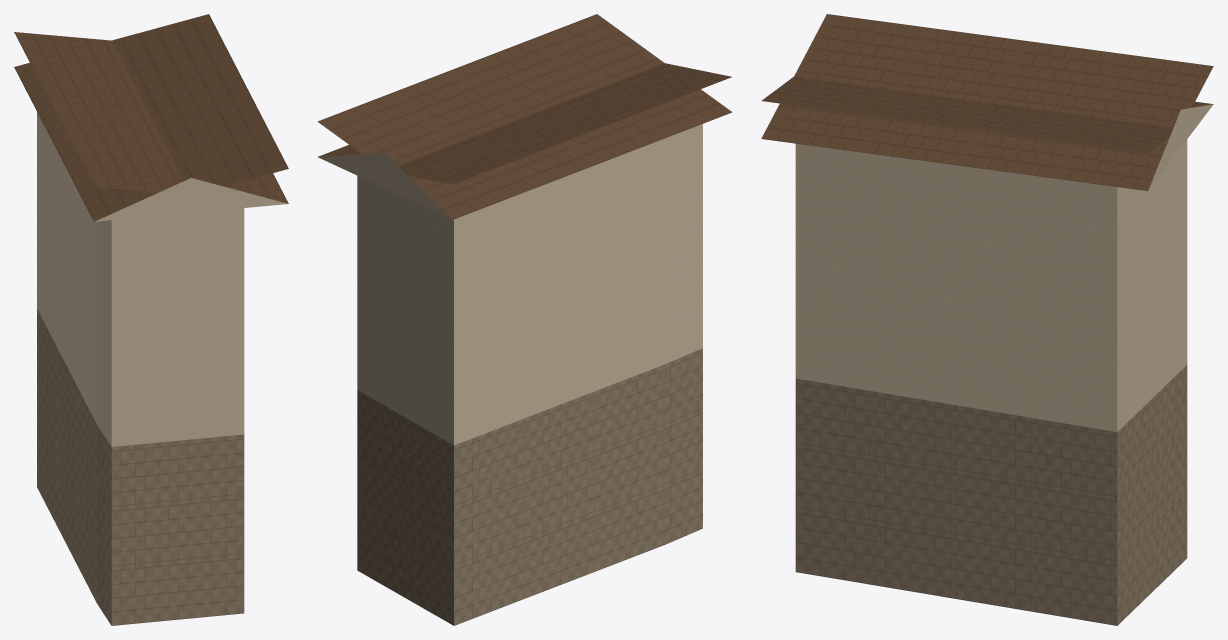
File: bld_c43_32_267.gltf
The picture shows the model from 3 angles, left to right: view 1: azimuth 30°, elevation 25°; view 2: azimuth 150°, elevation 25°; view 3: azimuth 270°, elevation 25°; orthographic projection. The views are drawn at different scales.
Visible parts, largest first — view 1: bld_c43_32_267; view 2: bld_c43_32_267; view 3: bld_c43_32_267.
Part boxes in pixels (left/top/right/bottom): bld_c43_32_267: left=14, top=14, right=288, bottom=625; bld_c43_32_267: left=317, top=14, right=732, bottom=625; bld_c43_32_267: left=761, top=14, right=1213, bottom=625.
Size of the model in its own units: 7.86 by 12.8 by 10.8.
Materials: 4 (4 with a texture image).
